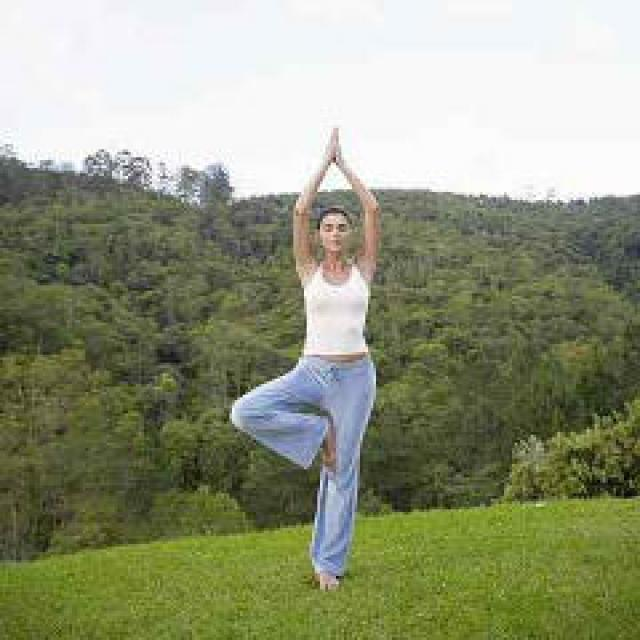yoga-pose tree: (228, 123, 392, 587)
